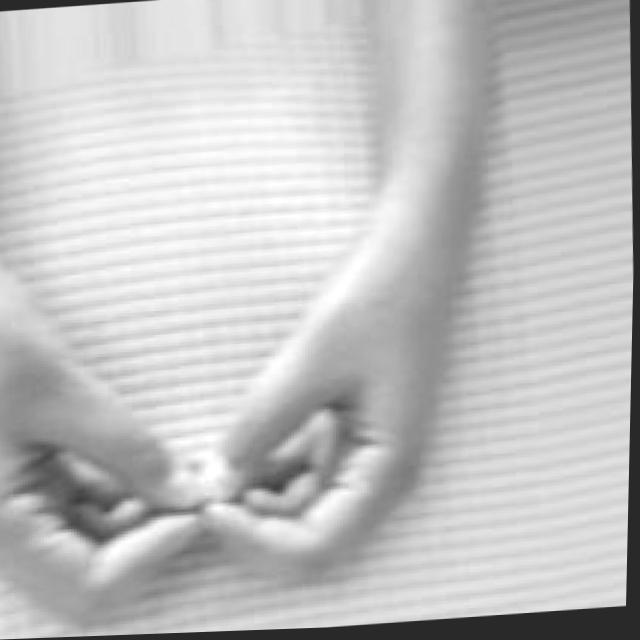B: (0, 263, 453, 639)
